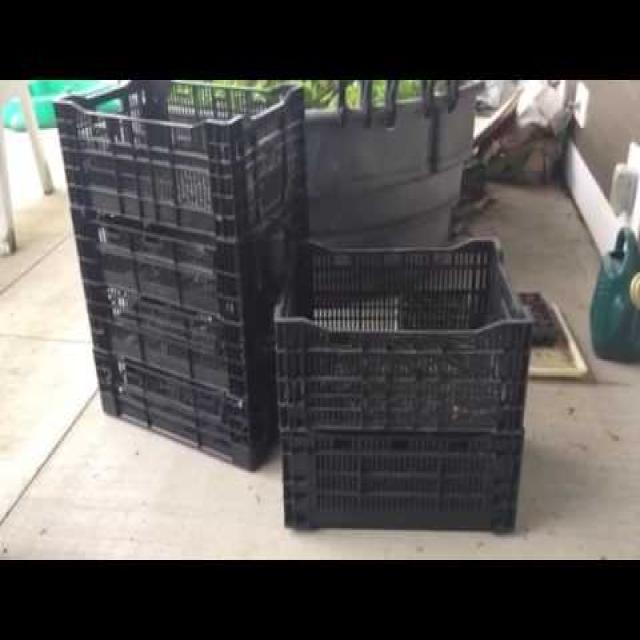basket: (56, 77, 311, 473), (267, 231, 536, 534), (301, 78, 474, 248)
